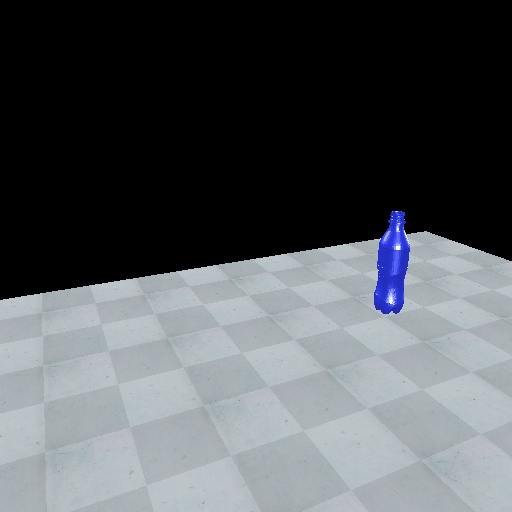bottle: (372, 208, 412, 315)
